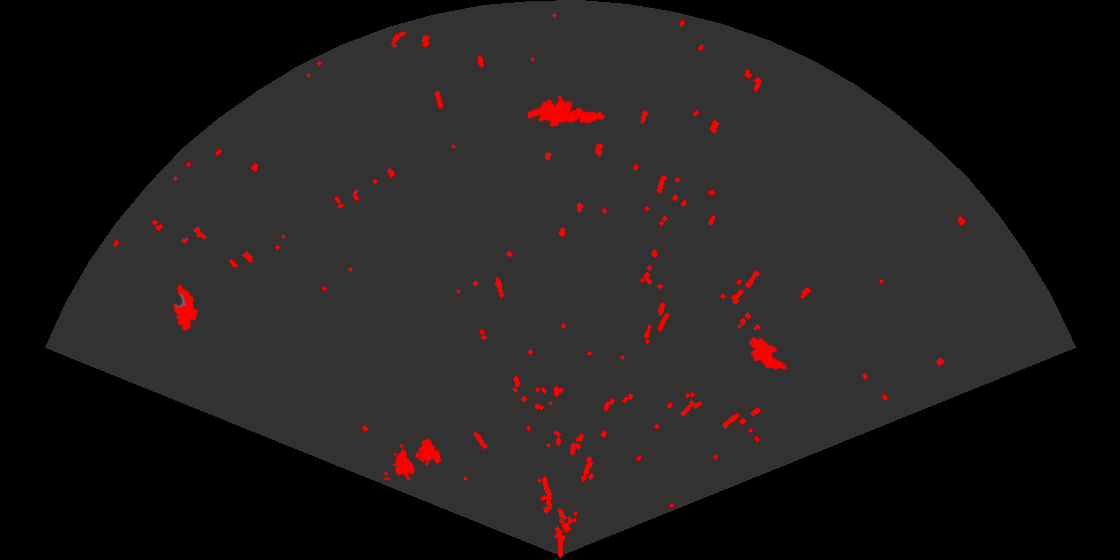AUV: (747, 335, 788, 372), (172, 283, 199, 333)
cage: (384, 437, 443, 480)
frogman: (528, 94, 607, 128)
